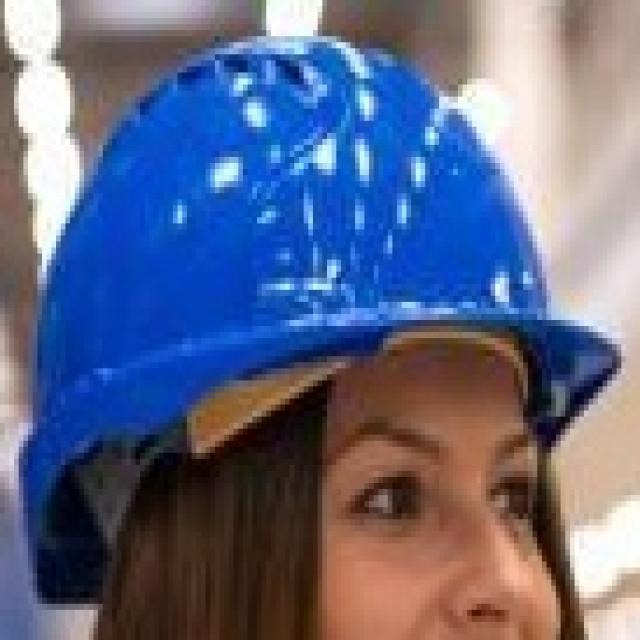Helmet: (16, 3, 638, 609)
